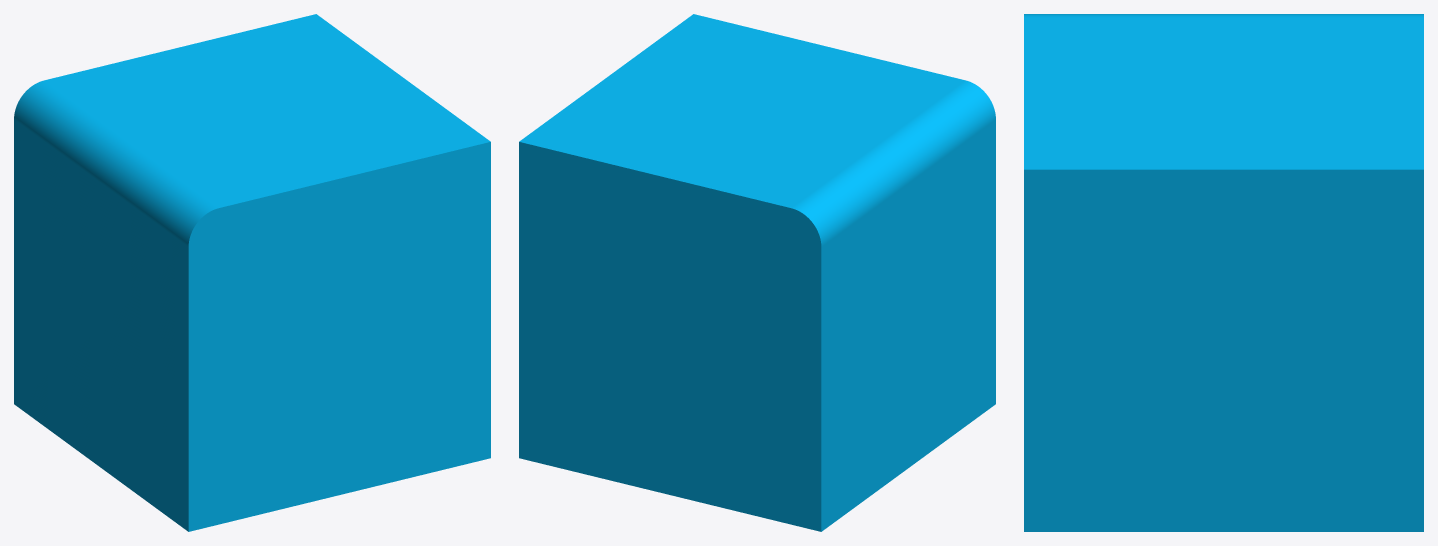
Rendered from lt_X_sol_ust_kenar_fillet.gltf.
3 renders of one model, left to right at view 1: azimuth 30°, elevation 25°; view 2: azimuth 150°, elevation 25°; view 3: azimuth 270°, elevation 25°, orthographic. The views are drawn at different scales.
Parts seen in each view (by area): view 1: Gövde; view 2: Gövde; view 3: Gövde.
Part boxes in pixels (x1,y1,x2,y2): Gövde: [14, 14, 490, 531]; Gövde: [519, 14, 995, 531]; Gövde: [1024, 14, 1423, 531].
Size of the model in its own units: 0.01 by 0.01 by 0.01.
